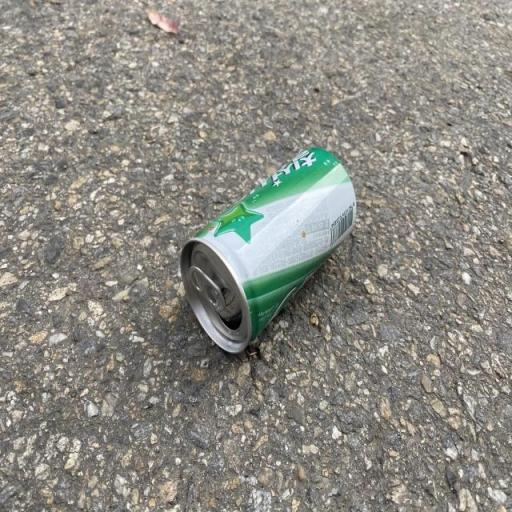metal: (160, 135, 382, 371)
